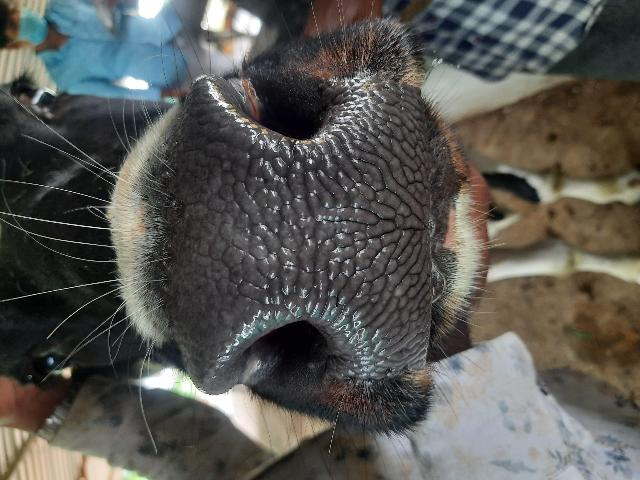Muzzle: (170, 128, 442, 328)
